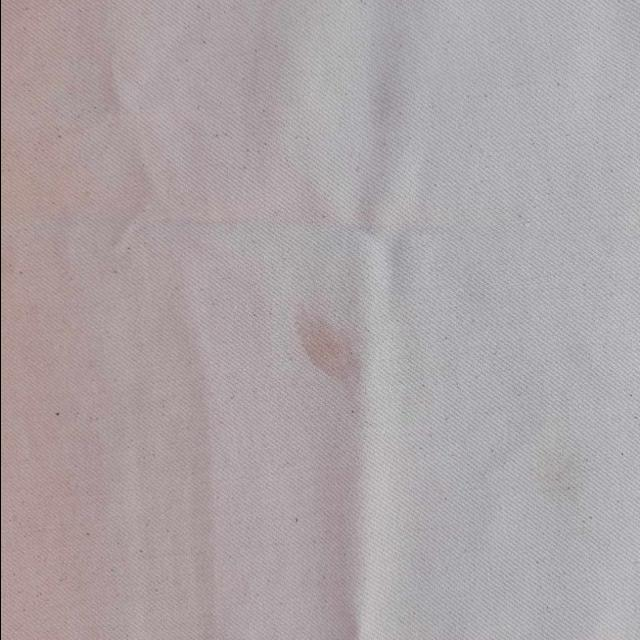taaaches: (257, 306, 373, 400)
